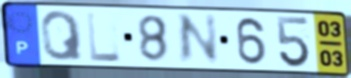5: (275, 14, 313, 70)
6: (234, 16, 268, 67)
8: (136, 13, 172, 64)
L: (85, 10, 123, 63)
N: (177, 13, 221, 67)
Q: (39, 9, 86, 62)
